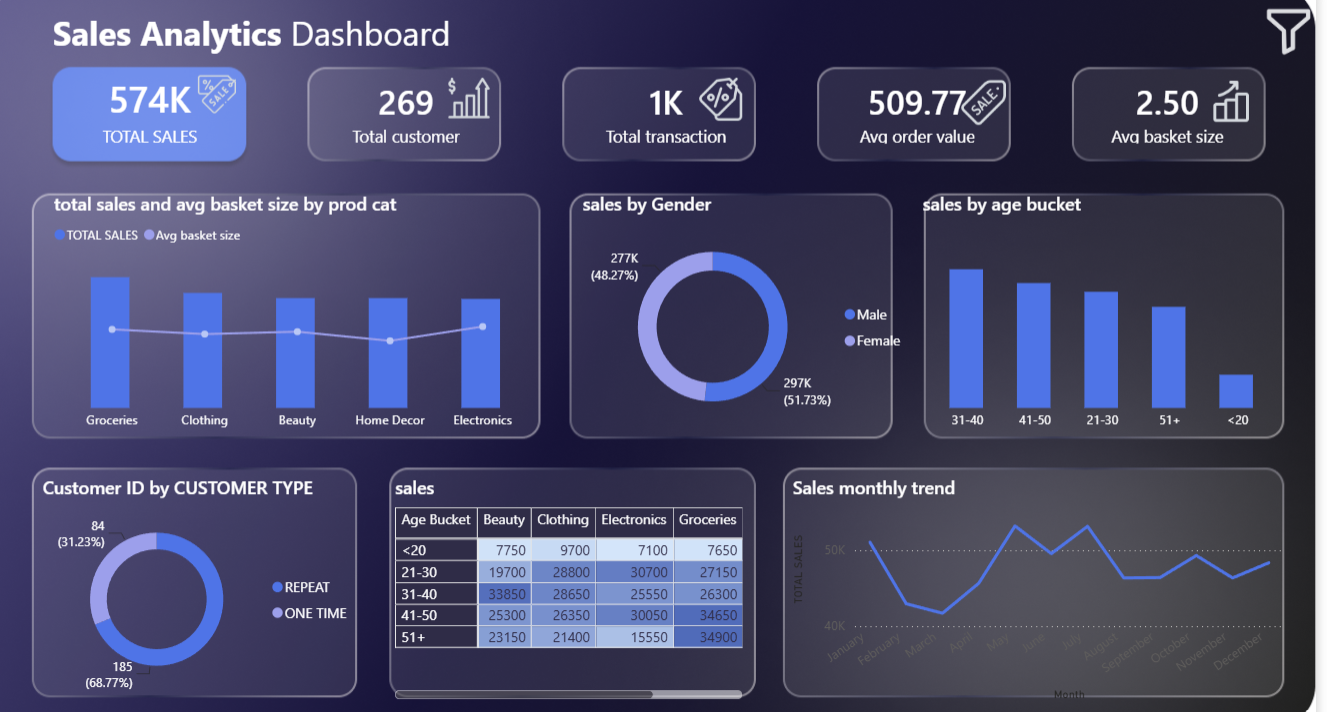

This screenshot's page, from the dashboard's own definition file:
{"tool":"powerbi","page":{"name":"Page 1","canvas":[1280,720],"ordinal":0},"visuals":[{"type":"cardVisual","fields":{"Data":["MEASURE.Avg basket size"]},"box":[1039.1,74.1,195.3,94.1],"z":0},{"type":"lineClusteredColumnComboChart","title":"total sales and avg basket size by prod cat","fields":{"Category":["retail_sales.Product Category"],"Y":["MEASURE.TOTAL SALES"],"Y2":["MEASURE.Avg basket size"]},"box":[57,196.7,480.4,239.5],"z":1000},{"type":"donutChart","title":"sales by Gender","fields":{"Y":["MEASURE.TOTAL SALES"],"Category":["retail_sales.Gender"]},"box":[567.3,196.7,326.4,239.5],"z":2000},{"type":"columnChart","title":"sales by age bucket","fields":{"Category":["retail_sales.Age Bucket"],"Y":["MEASURE.TOTAL SALES"]},"box":[895.1,196.7,357.8,239.5],"z":3000},{"type":"donutChart","title":"Customer ID by CUSTOMER TYPE","fields":{"Category":["customer type.CUSTOMER TYPE"],"Y":["Count(customer type.Customer ID)"]},"box":[32.8,470.4,323.6,218.1],"z":4000},{"type":"pivotTable","title":"sales ","fields":{"Rows":["retail_sales.Age Bucket"],"Columns":["retail_sales.Product Category"],"Values":["MEASURE.TOTAL SALES"]},"box":[377.7,460.4,353.5,232.3],"z":5000},{"type":"lineChart","title":" Sales monthly trend","fields":{"Category":["retail_sales.Date.Variation.Date Hierarchy.Month"],"Y":["MEASURE.TOTAL SALES"]},"box":[786.8,454.7,493.2,233.8],"z":6000},{"type":"cardVisual","fields":{"Data":["MEASURE.total transaction"]},"box":[554.5,74.1,195.3,94.1],"z":7000},{"type":"cardVisual","fields":{"Data":["MEASURE.total customer"]},"box":[303.6,74.1,195.3,94.1],"z":8000},{"type":"cardVisual","fields":{"Data":["MEASURE.TOTAL SALES"]},"box":[57,67,195.3,101.2],"z":9000},{"type":"cardVisual","fields":{"Data":["MEASURE.avg order value"]},"box":[797.5,75,195,93.8],"z":10000},{"type":"image","title":"open slicer","box":[1227.7,17.4,50.6,49.2],"z":11000},{"type":"textbox","box":[55.7,17.1,568.6,57.1],"z":12001},{"type":"image","box":[194.4,84.4,49.4,36.9],"z":12002},{"type":"image","box":[439.4,86.9,46.2,39.4],"z":12003},{"type":"image","box":[680.6,86.9,50,41.9],"z":12004},{"type":"image","box":[1175.4,86.9,45.4,46.2],"z":12006},{"type":"image","box":[936.9,84.6,43.1,52.3],"z":12007}]}

Visuals, with their boxes on the page's 1280x720 design canvas (x1, y1, x2, y2). These are canvas units, not pixel positions in the 1327x712 screenshot, which may show the page scaled, cropped or inside an application window:
cardVisual - MEASURE.Avg basket size: BBox(1039, 74, 1234, 168)
"total sales and avg basket size by prod cat" lineClusteredColumnComboChart: BBox(57, 197, 537, 436)
"sales by Gender" donutChart: BBox(567, 197, 894, 436)
"sales by age bucket" columnChart: BBox(895, 197, 1253, 436)
"Customer ID by CUSTOMER TYPE" donutChart: BBox(33, 470, 356, 688)
"sales " pivotTable: BBox(378, 460, 731, 693)
" Sales monthly trend" lineChart: BBox(787, 455, 1280, 688)
cardVisual - MEASURE.total transaction: BBox(554, 74, 750, 168)
cardVisual - MEASURE.total customer: BBox(304, 74, 499, 168)
cardVisual - MEASURE.TOTAL SALES: BBox(57, 67, 252, 168)
cardVisual - MEASURE.avg order value: BBox(798, 75, 992, 169)
"open slicer" image: BBox(1228, 17, 1278, 67)
textbox: BBox(56, 17, 624, 74)
image: BBox(194, 84, 244, 121)
image: BBox(439, 87, 486, 126)
image: BBox(681, 87, 731, 129)
image: BBox(1175, 87, 1221, 133)
image: BBox(937, 85, 980, 137)
